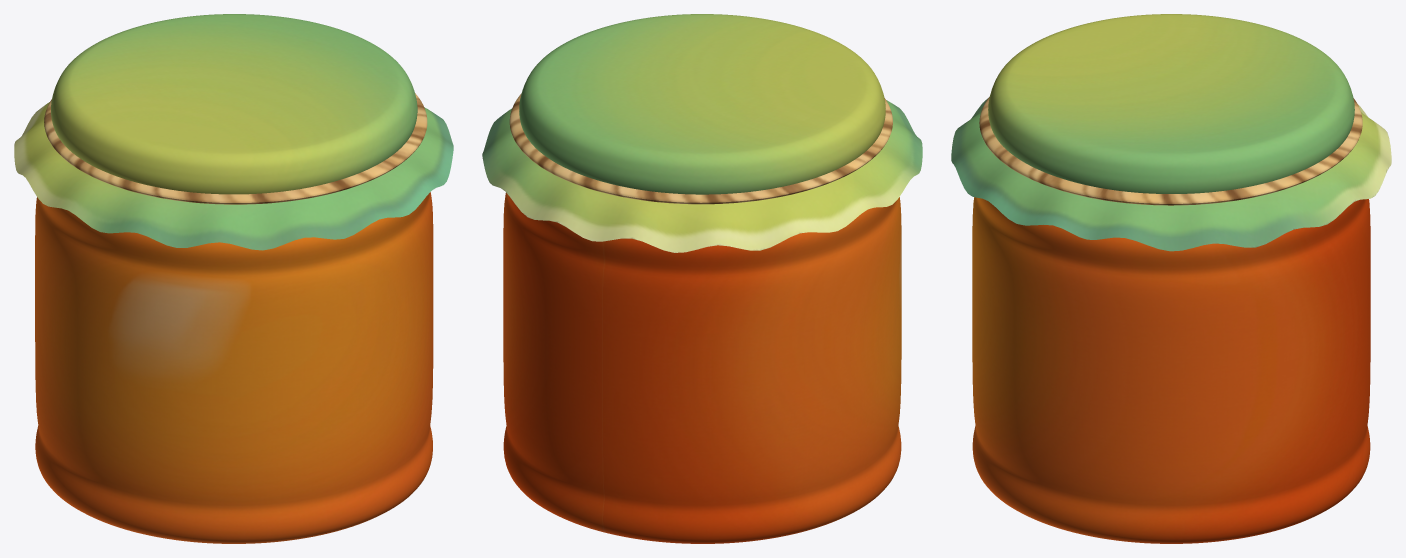
Rendered from JamJar(new5).fbx.
3 views of the same model, side by side, from view 1: azimuth 30°, elevation 25°; view 2: azimuth 150°, elevation 25°; view 3: azimuth 270°, elevation 25° (orthographic).
Visible parts, largest first — view 1: Cylinder; view 2: Cylinder; view 3: Cylinder.
Part boxes in pixels (x1,y1,x2,y2): Cylinder: (14,14,453,543); Cylinder: (482,14,922,543); Cylinder: (951,14,1391,543).
Bounding box in the file's own units: 2.1 × 2.04 × 2.1.
Materials: 2 (2 with a texture image).
